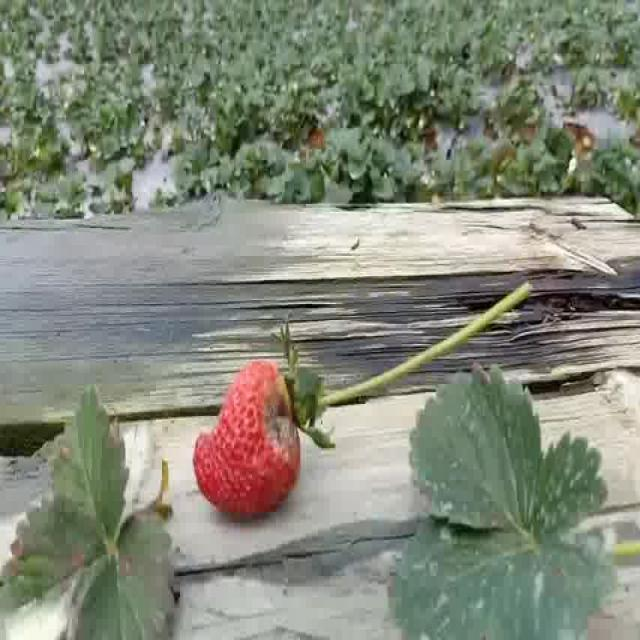Mancha negra Antracnosis: (188, 358, 302, 522)
